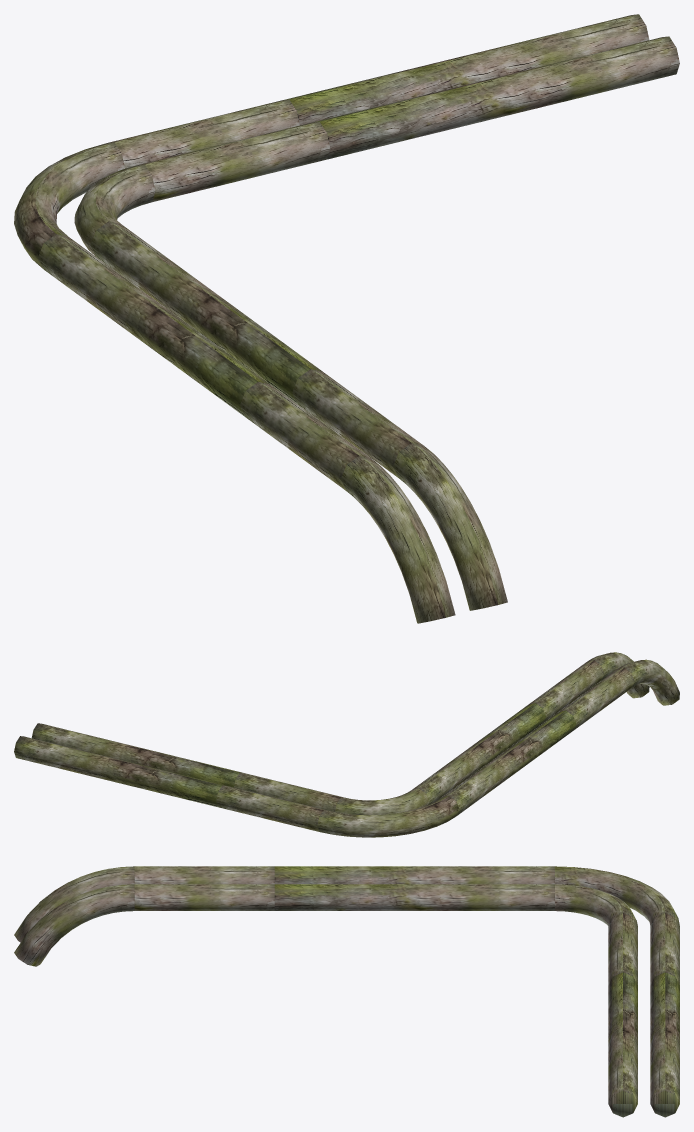
3 renders of one model, top to bottom at view 1: azimuth 30°, elevation 25°; view 2: azimuth 150°, elevation 25°; view 3: azimuth 270°, elevation 25°, orthographic. The views are drawn at different scales.
Parts seen in each view (by area): view 1: pipe, pipe_006, pipe_007, pipe_005; view 2: pipe, pipe_006, pipe_005, pipe_007; view 3: pipe_006, pipe, pipe_007, pipe_005.
Boxes of the visible parts, x1=… form: pipe: x1=108, y1=14, x2=679, y2=202; pipe_006: x1=38, y1=221, x2=423, y2=490; pipe_007: x1=341, y1=443, x2=507, y2=623; pipe_005: x1=14, y1=142, x2=155, y2=268; pipe: x1=14, y1=723, x2=343, y2=831; pipe_006: x1=412, y1=660, x2=634, y2=815; pipe_005: x1=317, y1=788, x2=459, y2=837; pipe_007: x1=587, y1=652, x2=679, y2=705; pipe_006: x1=134, y1=866, x2=554, y2=910; pipe: x1=608, y1=913, x2=679, y2=1117; pipe_007: x1=14, y1=866, x2=134, y2=966; pipe_005: x1=555, y1=866, x2=679, y2=925.
Size of the model in its own units: 389 by 63.12 by 475.
